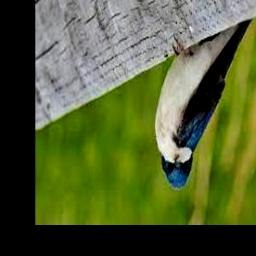Swallow: (155, 19, 252, 189)
